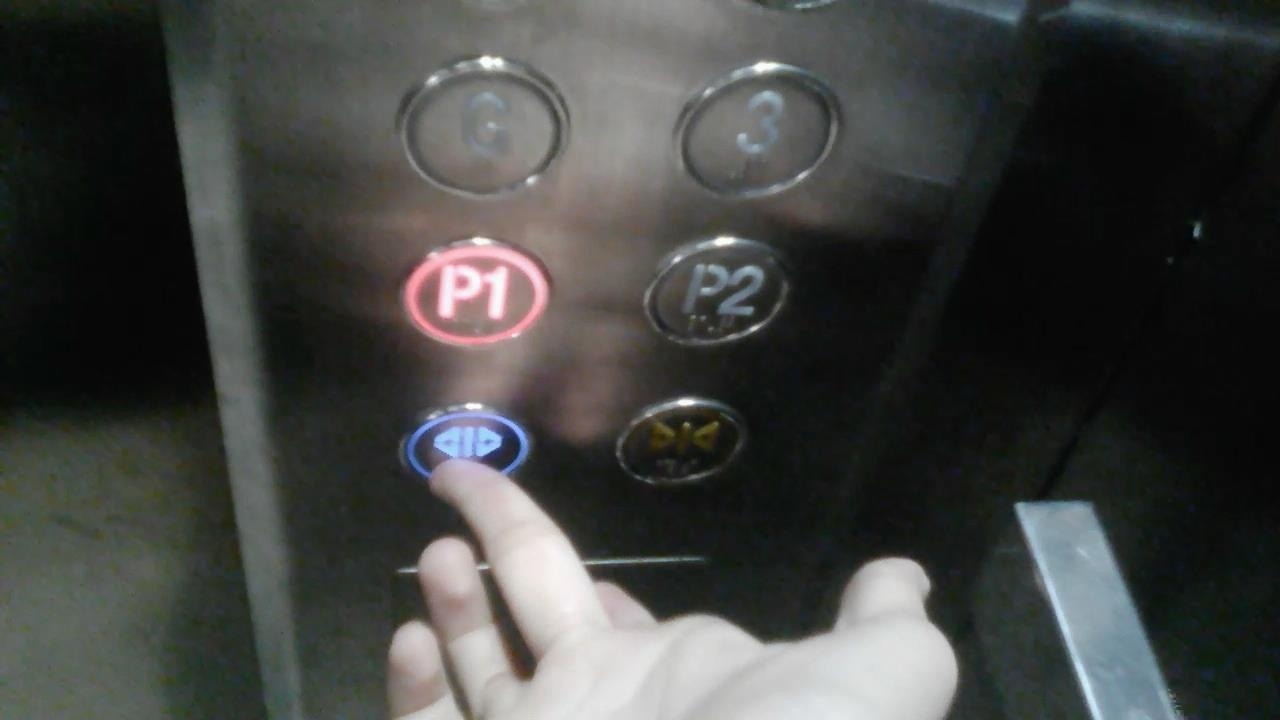3: (667, 59, 847, 209)
G: (394, 53, 577, 208)
P1: (394, 230, 557, 355)
P2: (640, 231, 794, 354)
close: (610, 395, 752, 493)
open: (396, 400, 537, 503)
